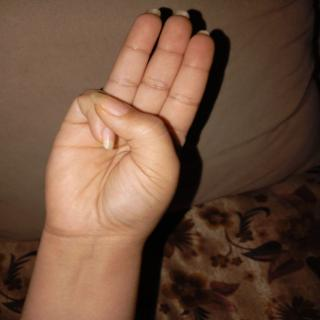THA: (36, 5, 220, 243)
